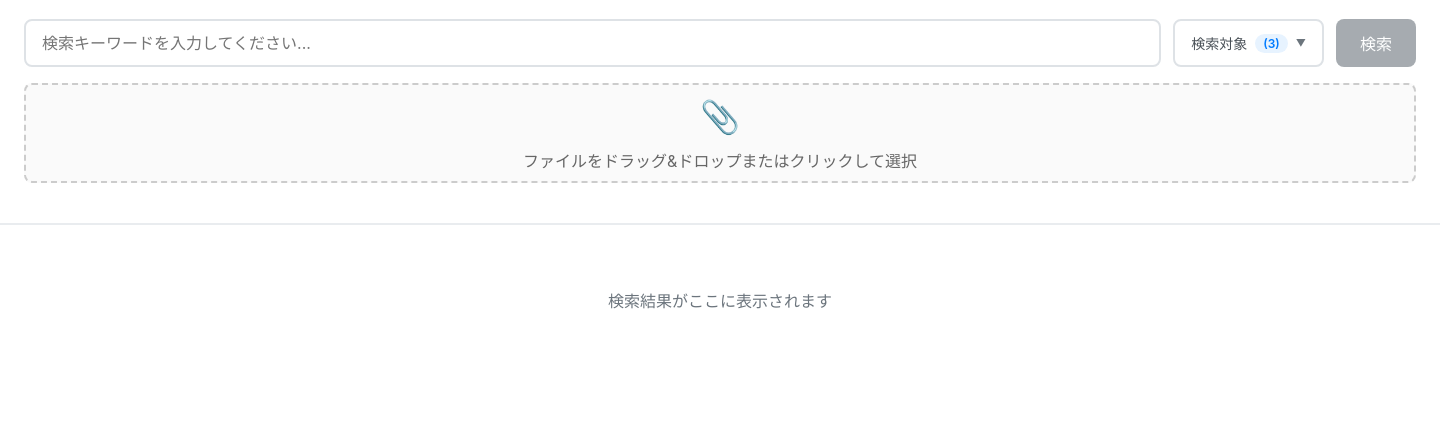
Test: SearchPage › should display synthesis text in search result area during synthesis
In the field with placeholder "検索キーワードを入力してください...": (593, 43) [24,19,1161,67], type "test"
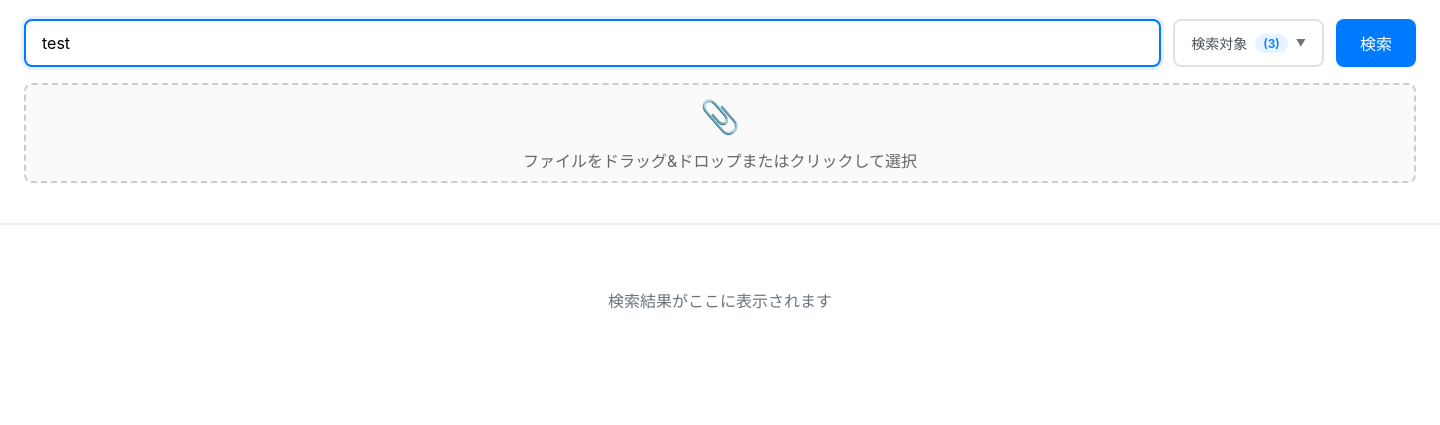
Click the button "検索": click(1376, 43) [1336,19,1416,67]
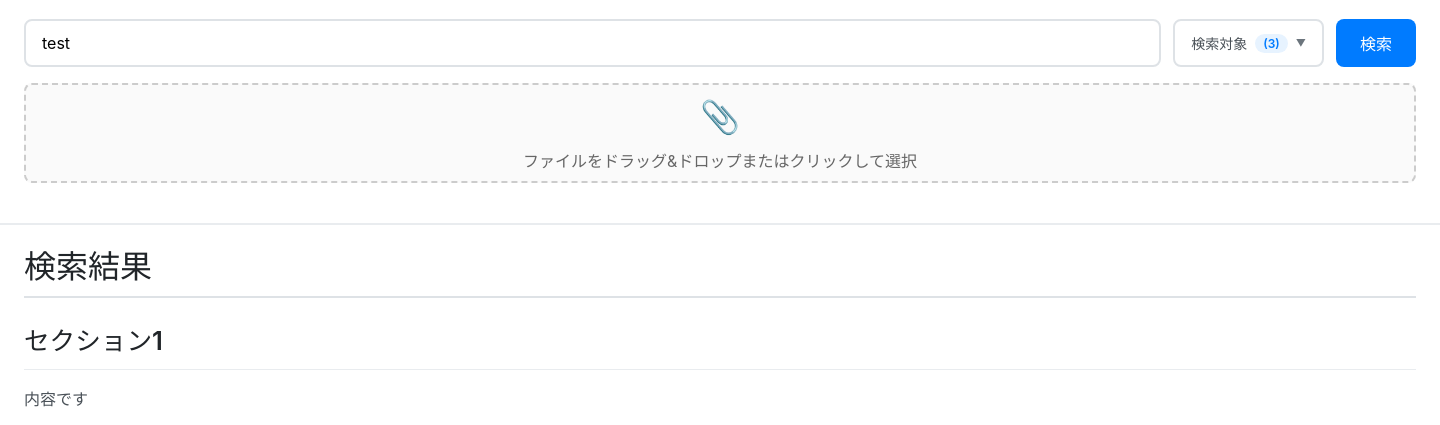
Now the text "内容です" is shown, box [24,389,88,409]
